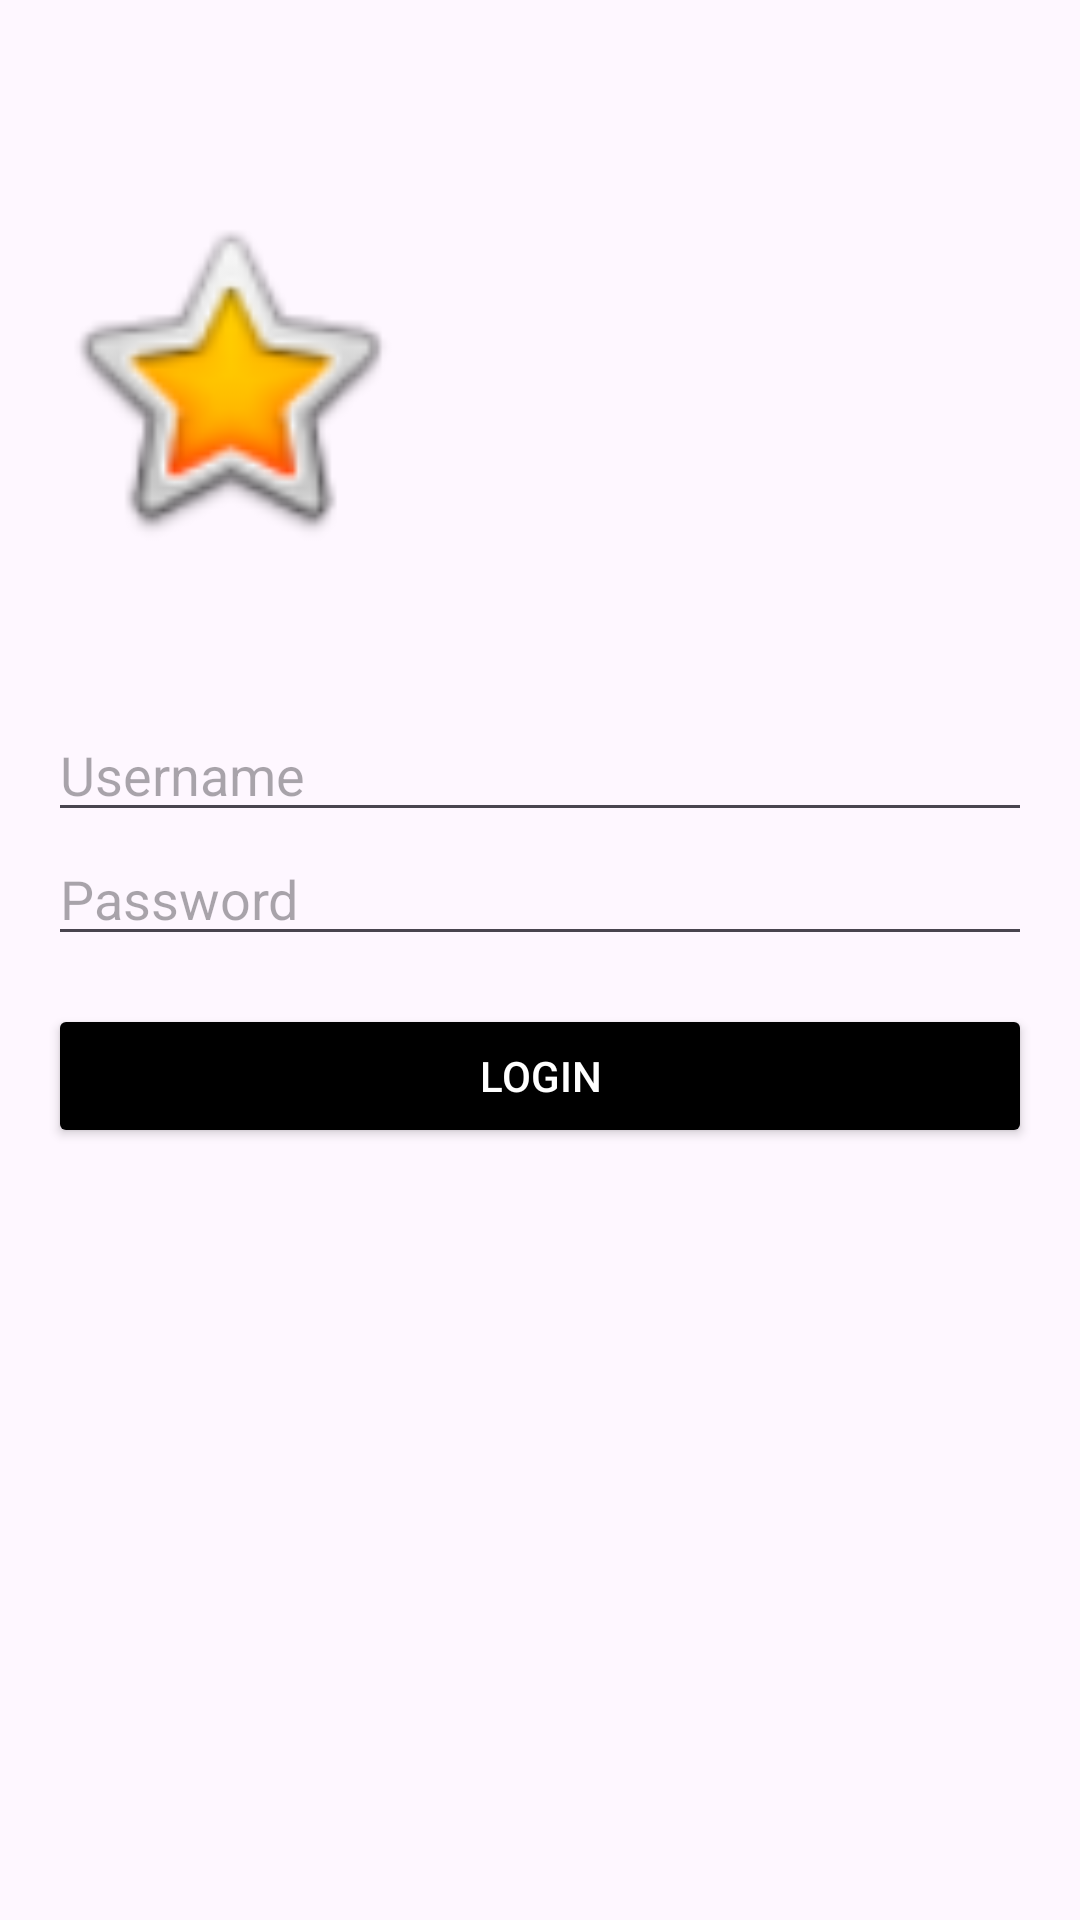

Screen size 1080 x 1920. Icon name, then its box in pixels as (left=x1, top=y1, right=x2, bottom=y2):
star on: (left=81, top=234, right=382, bottom=527)
